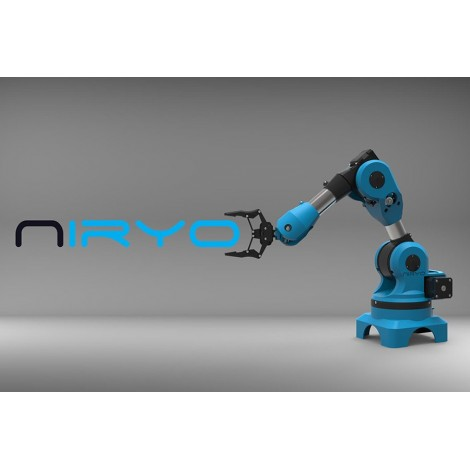robot: (222, 147, 454, 310)
